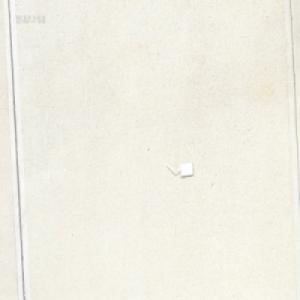LuggageTag: (165, 161, 193, 177)
